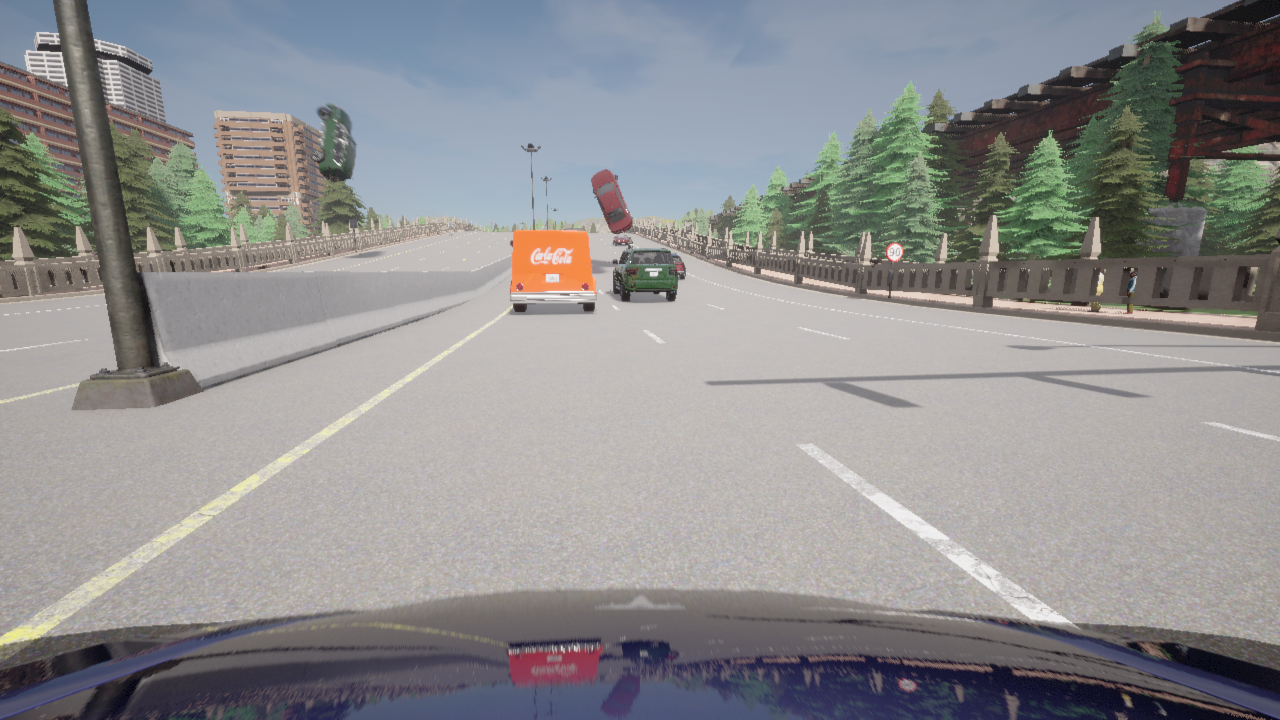cyclist: (0, 588, 1279, 719), (509, 230, 596, 311), (311, 103, 356, 181), (612, 248, 677, 300), (591, 169, 632, 234), (671, 253, 685, 279), (613, 235, 628, 245), (626, 241, 632, 248), (564, 228, 582, 230), (510, 240, 512, 246)
pedestrian: (1087, 268, 1103, 311), (1123, 270, 1137, 314)
